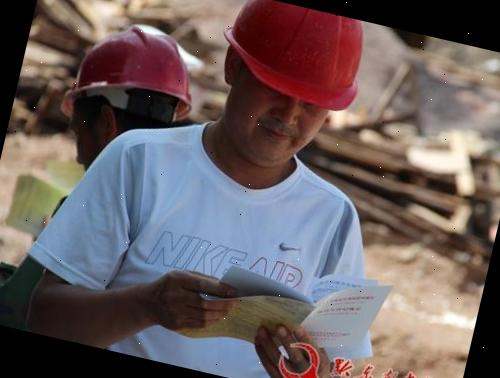helmet: (212, 0, 385, 124), (76, 17, 208, 115)
no_wear: (63, 135, 375, 378)
